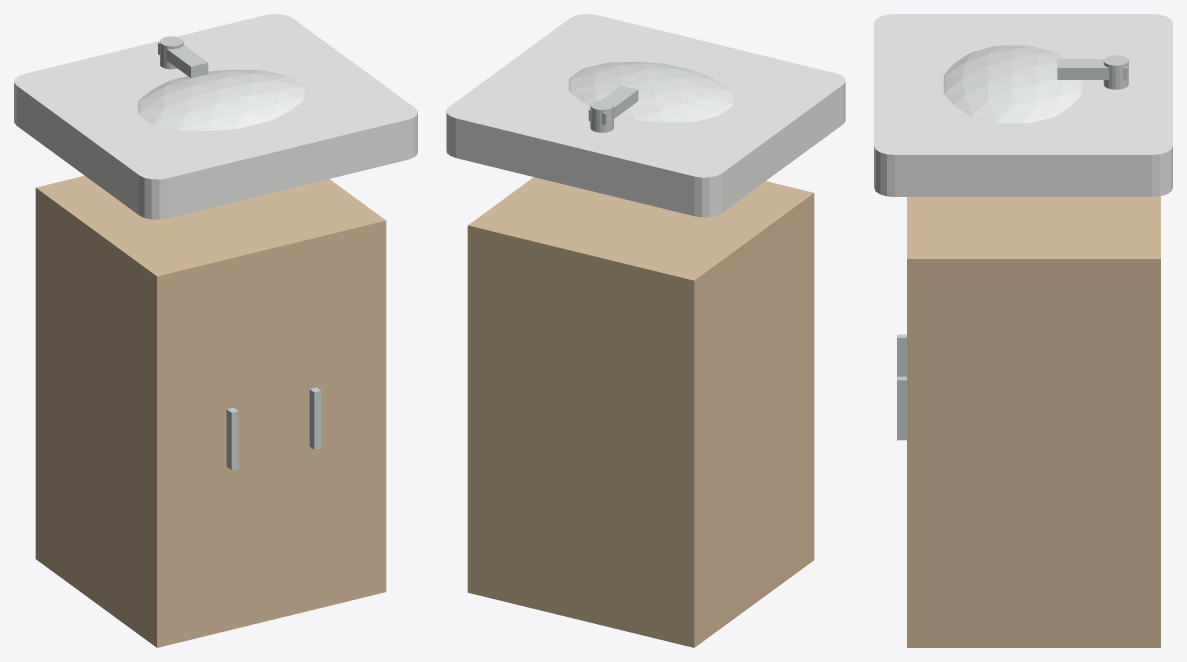
Rendered from s-bed8-o04-8005edfa10.glb.
3 renders of one model, left to right at view 1: azimuth 30°, elevation 25°; view 2: azimuth 150°, elevation 25°; view 3: azimuth 270°, elevation 25°, orthographic. The views are drawn at different scales.
Parts seen in each view (by area): view 1: cabinet, ceramic-rim, bowl, spout; view 2: cabinet, ceramic-rim, bowl, spout, tap; view 3: cabinet, ceramic-rim, bowl, spout, tap.
Part boxes in pixels (x1=…): cabinet: x1=35, y1=175, x2=386, y2=647; ceramic-rim: x1=14, y1=14, x2=417, y2=219; bowl: x1=137, y1=69, x2=304, y2=130; spout: x1=158, y1=42, x2=321, y2=469; cabinet: x1=467, y1=177, x2=814, y2=647; ceramic-rim: x1=446, y1=14, x2=845, y2=217; bowl: x1=568, y1=62, x2=733, y2=122; spout: x1=588, y1=85, x2=638, y2=124; tap: x1=590, y1=100, x2=613, y2=132; cabinet: x1=907, y1=196, x2=1160, y2=647; ceramic-rim: x1=874, y1=14, x2=1172, y2=196; bowl: x1=943, y1=45, x2=1082, y2=123; spout: x1=897, y1=59, x2=1126, y2=440; tap: x1=1103, y1=55, x2=1128, y2=89.
Size of the model in its own units: 0.48 by 0.84 by 0.43.
